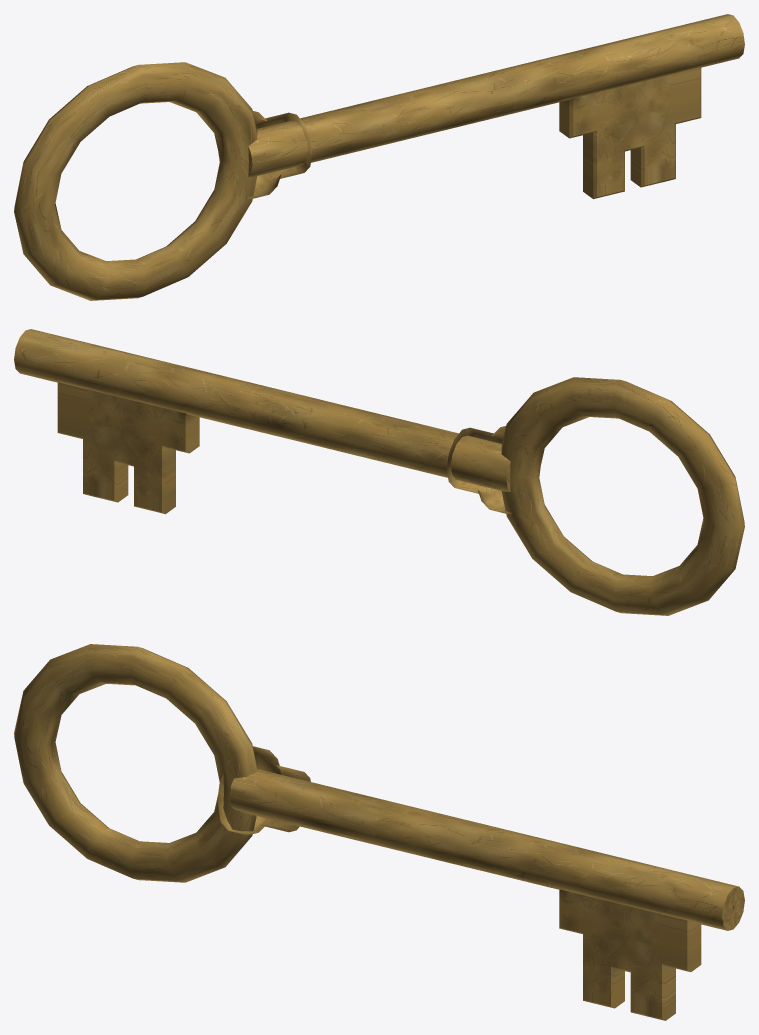
File: key_ward.glb
3 renders of one model, top to bottom at view 1: azimuth 30°, elevation 25°; view 2: azimuth 150°, elevation 25°; view 3: azimuth 330°, elevation 25°, orthographic.
Visible parts, largest first — view 1: Key_Bow, Key_Shaft, Key_Bit, Key_Collar; view 2: Key_Bow, Key_Shaft, Key_Bit, Key_Collar; view 3: Key_Bow, Key_Shaft, Key_Bit, Key_Collar.
Part boxes in pixels (x1,y1,x2,y2): Key_Bow: (14, 62, 257, 300); Key_Shaft: (248, 14, 744, 176); Key_Bit: (559, 67, 701, 199); Key_Collar: (218, 111, 312, 199); Key_Bow: (501, 377, 744, 615); Key_Shaft: (14, 329, 510, 491); Key_Bit: (57, 382, 199, 514); Key_Collar: (446, 426, 540, 514); Key_Bow: (14, 644, 257, 882); Key_Shaft: (229, 769, 744, 930); Key_Bit: (559, 889, 701, 1020); Key_Collar: (217, 746, 310, 835).
Size of the model in its own units: 4.53 by 1.45 by 0.48.
Materials: 1 (1 with a texture image).
